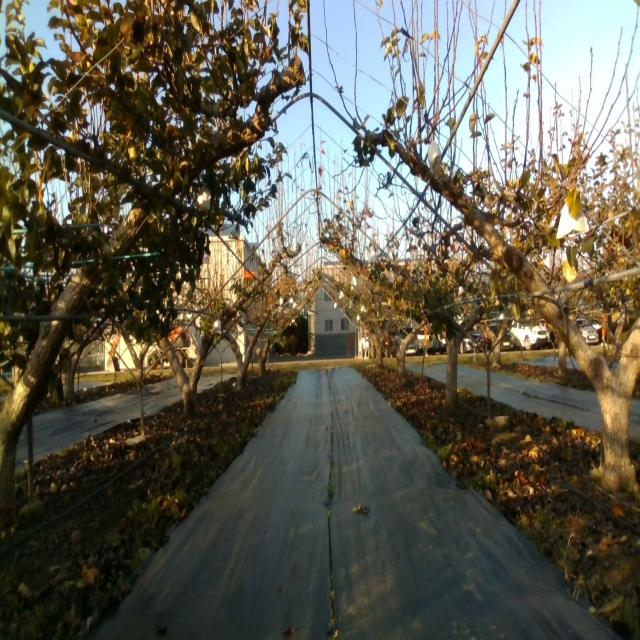pearbags: (556, 202, 590, 240), (194, 182, 212, 210), (428, 141, 440, 177)
